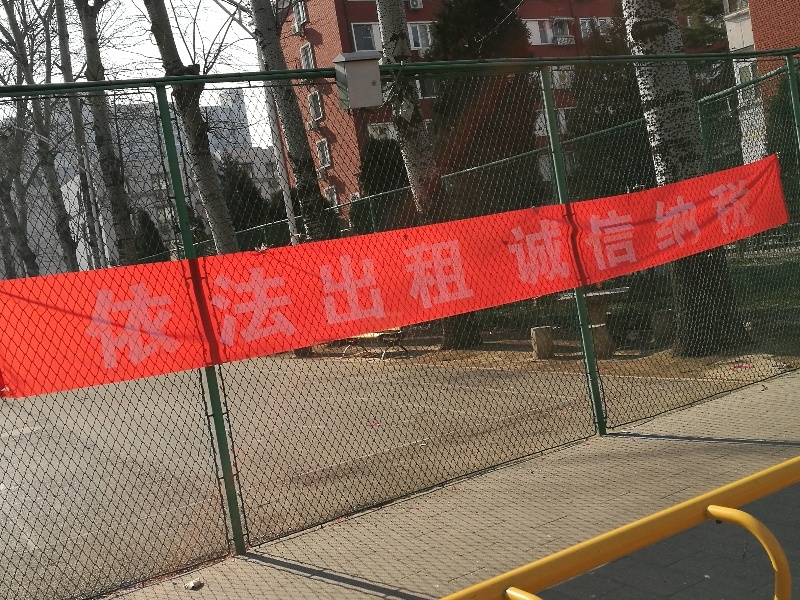text: (465, 236, 481, 376), (81, 236, 96, 376), (97, 236, 112, 376), (113, 236, 128, 376), (129, 236, 144, 376), (145, 236, 160, 376), (161, 236, 176, 376), (177, 236, 192, 376), (193, 236, 208, 376), (209, 236, 224, 376), (225, 236, 240, 376), (241, 236, 256, 376), (257, 236, 272, 376), (273, 236, 288, 376), (289, 236, 304, 376), (305, 236, 320, 376), (321, 236, 336, 376), (337, 236, 352, 376), (353, 236, 368, 376), (369, 236, 384, 376), (385, 236, 400, 376), (401, 236, 416, 376), (417, 236, 432, 376), (433, 236, 448, 376), (449, 236, 464, 376), (513, 174, 528, 291), (529, 174, 544, 291), (545, 174, 560, 291), (561, 174, 576, 291), (577, 174, 592, 291), (593, 174, 608, 291), (609, 174, 624, 291), (625, 174, 640, 291), (641, 174, 656, 291), (657, 174, 672, 291), (673, 174, 688, 291), (689, 174, 704, 291), (705, 174, 720, 291), (721, 174, 736, 291), (737, 174, 752, 291), (502, 174, 512, 291), (753, 174, 763, 291)
